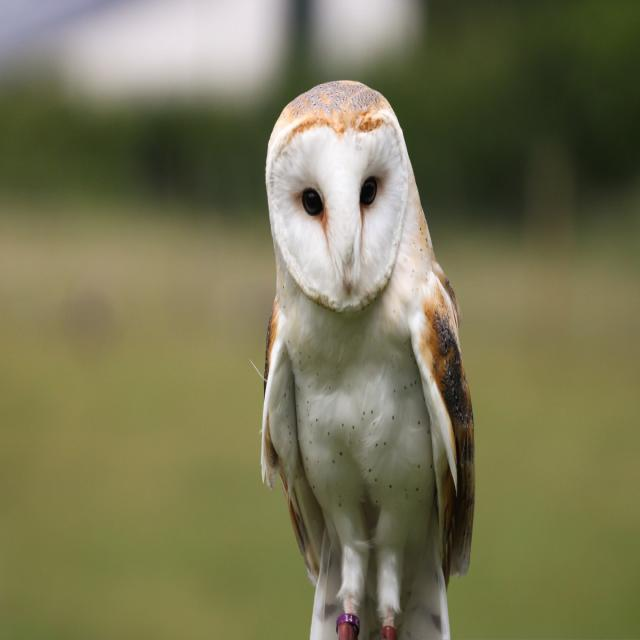owl: (229, 50, 508, 640)
